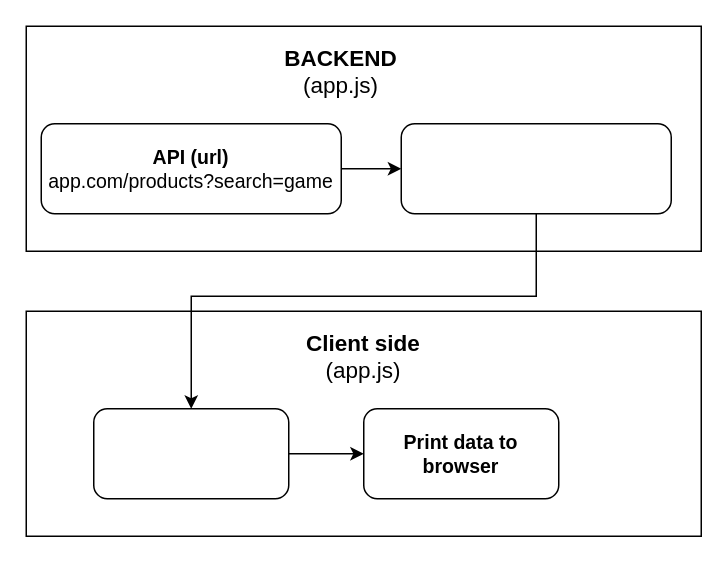
The diagram is 728 pixels wide and 563 high, and some of its shapes have lost their labels. The shapes that lost their labels are listed below. From the top down, each one's centre as x and y in pixels, then its label:
At (x=535, y=168): "res.send(jsonData) products = [{name: 'game1'}, {name: 'game2'}]".
At (x=190, y=453): "fetch() to get data".
